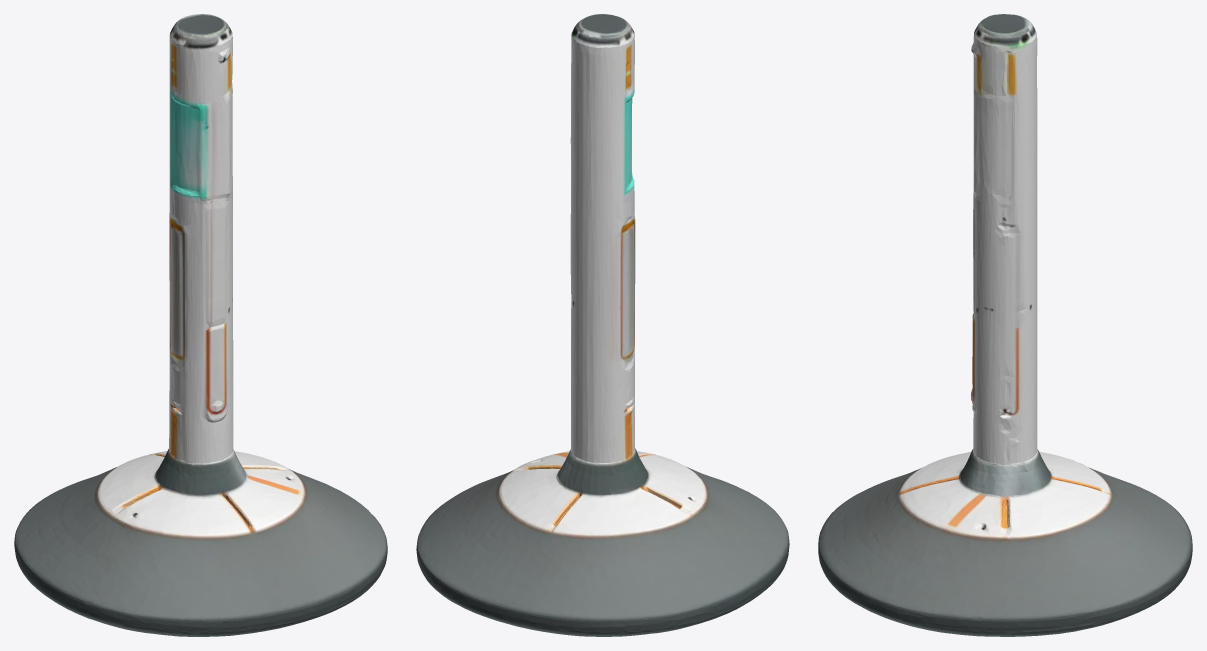
File: pylon.glb
The picture shows the model from 3 angles, left to right: view 1: azimuth 30°, elevation 25°; view 2: azimuth 150°, elevation 25°; view 3: azimuth 270°, elevation 25°; orthographic projection.
Visible parts, largest first — view 1: tmpgfxy1jk7.ply; view 2: tmpgfxy1jk7.ply; view 3: tmpgfxy1jk7.ply.
Part boxes in pixels (bbox=[...]): tmpgfxy1jk7.ply: bbox=[14, 14, 387, 636]; tmpgfxy1jk7.ply: bbox=[416, 14, 789, 636]; tmpgfxy1jk7.ply: bbox=[818, 14, 1192, 636].
Bounding box in the file's own units: 0.6104 × 1 × 0.6209.
Materials: 1 (1 with a texture image).
